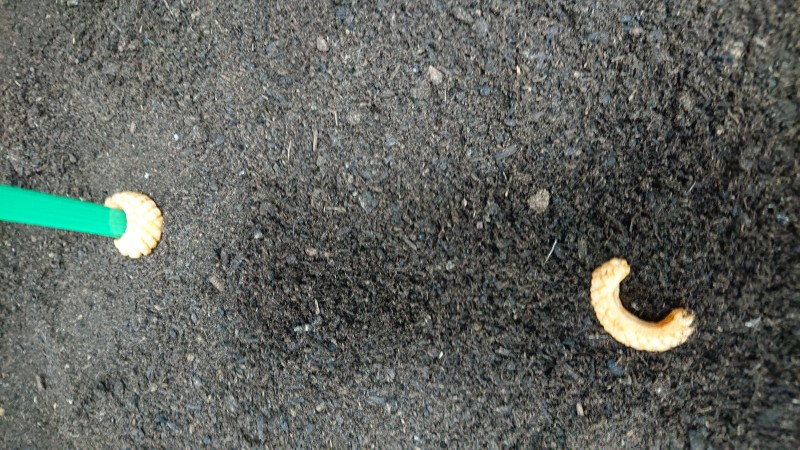eggs: (586, 255, 697, 359), (98, 187, 165, 262)
